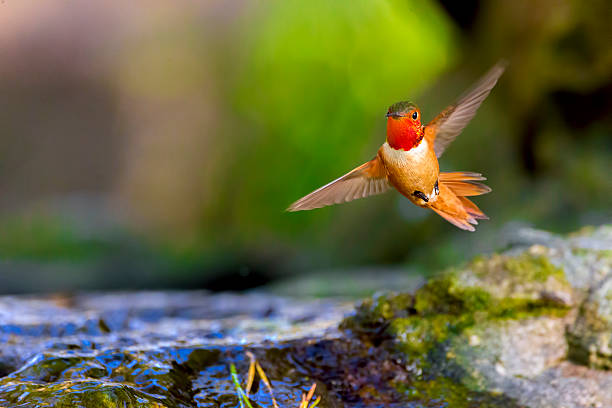Bird: (282, 58, 513, 243)
